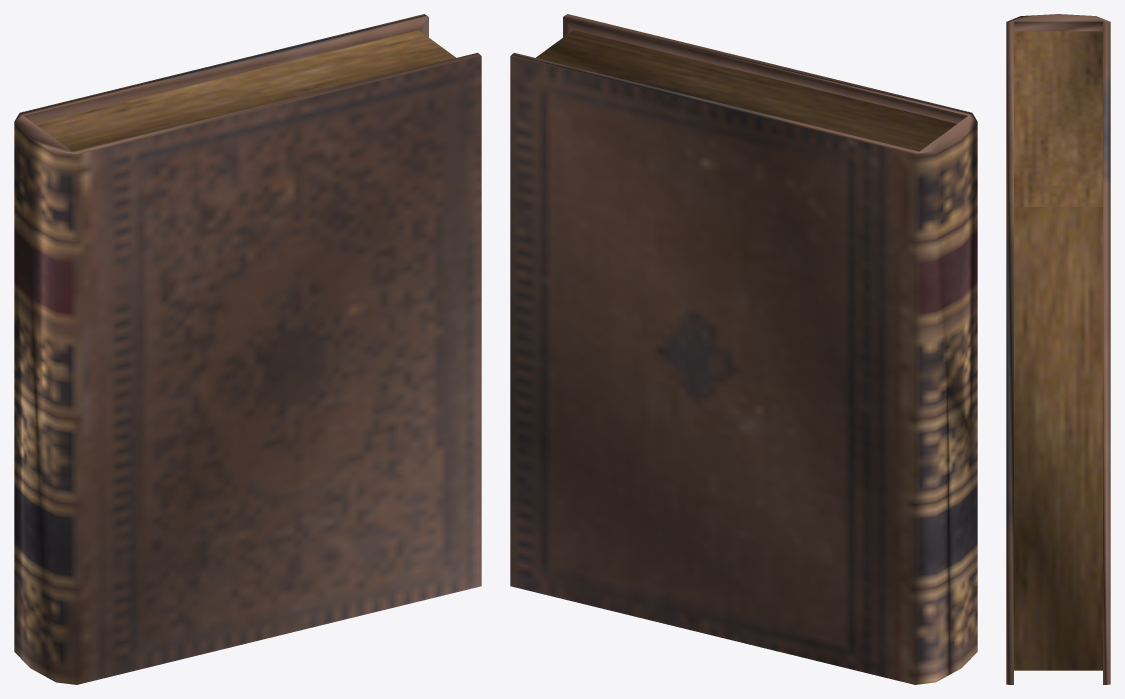
File: MS_Book_5.fbx
3 renders of one model, left to right at view 1: azimuth 30°, elevation 25°; view 2: azimuth 150°, elevation 25°; view 3: azimuth 270°, elevation 25°, orthographic. The views are drawn at different scales.
Visible parts, largest first — view 1: MSH_Book_01; view 2: MSH_Book_01; view 3: MSH_Book_01.
Boxes of the visible parts, x1,y1,x2,y2 form: MSH_Book_01: [14, 14, 481, 684]; MSH_Book_01: [510, 14, 977, 684]; MSH_Book_01: [1006, 14, 1110, 684].
Bounding box in the file's own units: 20.87 × 25 × 4.89.
